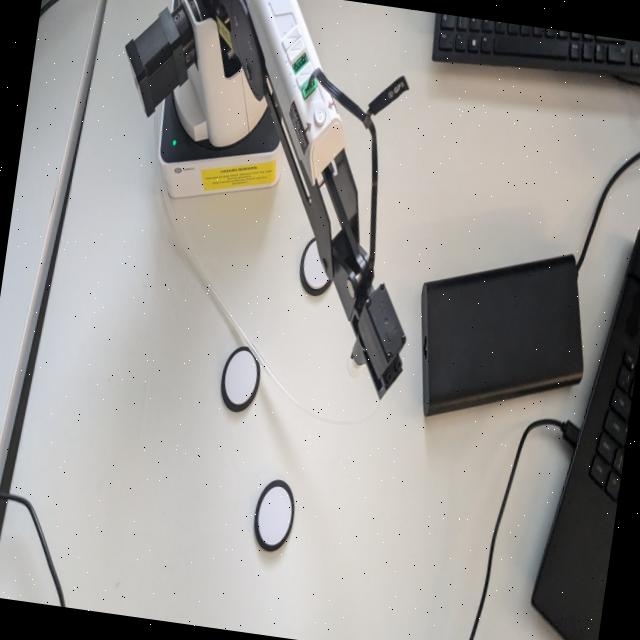Robot-end-effector-HF8z: (332, 274, 417, 408)
